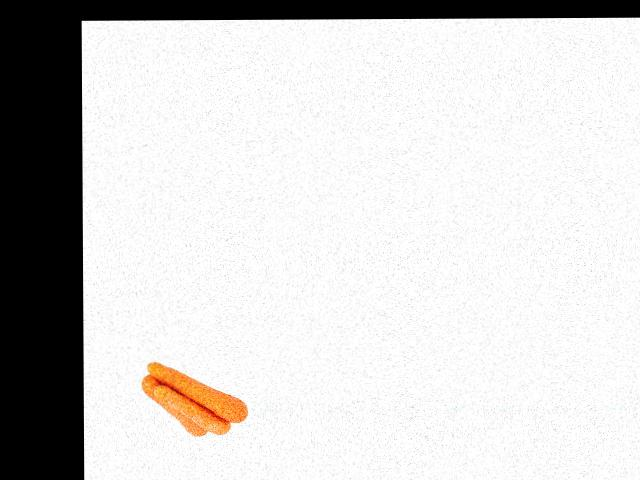carrot: (150, 363, 249, 423)
